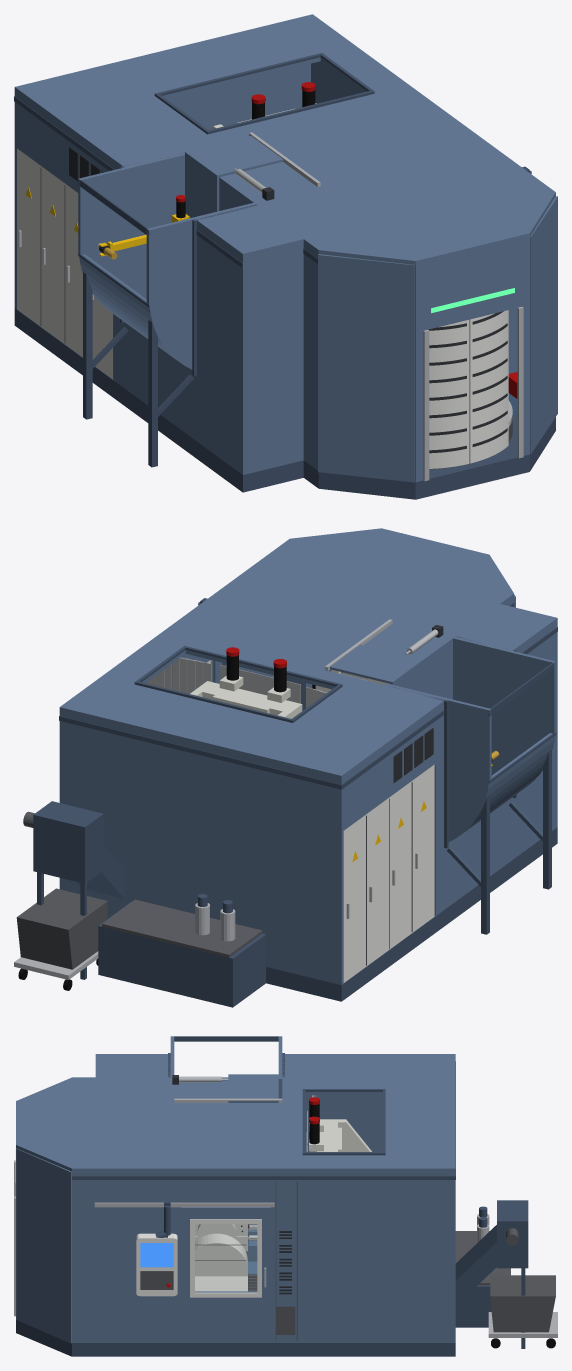
File: clock1200evo_fms_blue.glb
The picture shows the model from 3 angles, top to bottom: view 1: azimuth 30°, elevation 25°; view 2: azimuth 150°, elevation 25°; view 3: azimuth 270°, elevation 25°; orthographic projection. The views are drawn at different scales.
Parts seen in each view (by area): view 1: enclosure__mcm_blue, apc_housing__mcm_blue, tc_box__mcm_blue, electrical_cabinet__evo_white, enclosure__mcm_blue_dk, apc_housing__mcm_blue_dk, apc_door_left__evo_white, apc_door_right__evo_white, tc_box__mcm_blue_dk, tc_door__mcm_blue, apc_housing__steel, apc_door_left__anthracite (+4 smaller); view 2: enclosure__mcm_blue, tc_box__mcm_blue, chip_coolant__mcm_blue_dk, electrical_cabinet__evo_white, enclosure__mcm_blue_dk, apc_housing__mcm_blue, chip_cart__steel_dark, chip_coolant__anthracite_lt, tc_box__mcm_blue_dk, tc_door__mcm_blue, column__struct_grey, enclosure__anthracite (+6 smaller); view 3: enclosure__mcm_blue, apc_housing__mcm_blue, enclosure__mcm_blue_dk, chip_coolant__mcm_blue_dk, operator_door__glass_clear, operator_door__mcm_blue, chip_cart__steel_dark, table__struct_grey, enclosure__steel, operator_door__evo_white, column__struct_grey, tc_door__mcm_blue (+12 smaller).
Boxes of the visible parts, x1,y1,x2,y2 form: enclosure__mcm_blue: [14, 14, 540, 474]; apc_housing__mcm_blue: [303, 181, 557, 482]; tc_box__mcm_blue: [78, 152, 255, 369]; electrical_cabinet__evo_white: [17, 149, 113, 379]; enclosure__mcm_blue_dk: [14, 53, 374, 492]; apc_housing__mcm_blue_dk: [303, 248, 555, 499]; apc_door_left__evo_white: [429, 320, 469, 468]; apc_door_right__evo_white: [469, 310, 508, 463]; tc_box__mcm_blue_dk: [78, 179, 193, 467]; tc_door__mcm_blue: [185, 136, 283, 217]; apc_housing__steel: [423, 307, 523, 481]; apc_door_left__anthracite: [428, 323, 466, 453]; enclosure__mcm_blue: [59, 549, 557, 984]; tc_box__mcm_blue: [388, 637, 556, 841]; chip_coolant__mcm_blue_dk: [33, 801, 265, 1007]; electrical_cabinet__evo_white: [343, 764, 434, 982]; enclosure__mcm_blue_dk: [59, 627, 557, 1001]; apc_housing__mcm_blue: [276, 528, 515, 688]; chip_cart__steel_dark: [16, 888, 107, 969]; chip_coolant__anthracite_lt: [102, 899, 262, 957]; tc_box__mcm_blue_dk: [447, 662, 556, 934]; tc_door__mcm_blue: [330, 644, 422, 691]; column__struct_grey: [190, 676, 302, 718]; enclosure__anthracite: [393, 625, 443, 782]; enclosure__mcm_blue: [95, 1054, 455, 1342]; apc_housing__mcm_blue: [16, 1077, 95, 1343]; enclosure__mcm_blue_dk: [95, 1053, 455, 1356]; chip_coolant__mcm_blue_dk: [455, 1200, 528, 1348]; operator_door__glass_clear: [195, 1225, 256, 1291]; operator_door__mcm_blue: [181, 1207, 270, 1308]; chip_cart__steel_dark: [490, 1275, 555, 1332]; table__struct_grey: [195, 1224, 247, 1291]; enclosure__steel: [94, 1076, 282, 1207]; operator_door__evo_white: [190, 1219, 261, 1297]; column__struct_grey: [309, 1119, 371, 1151]; tc_door__mcm_blue: [228, 1074, 278, 1102].
Size of the model in its own units: 5.06 by 3.22 by 7.86.
